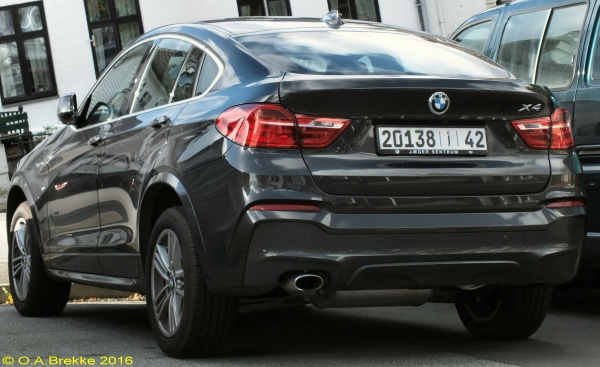number_plate: (374, 126, 492, 154)
